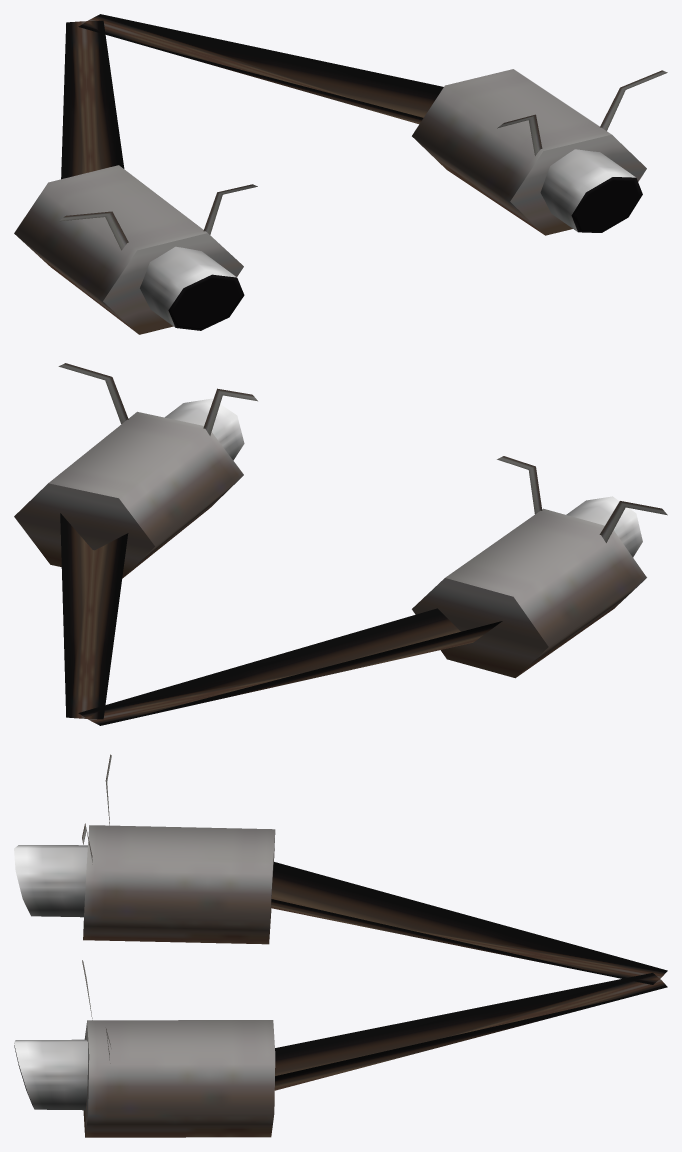
File: exh_c_u.glb
3 views of the same model, one above another, from view 1: azimuth 30°, elevation 25°; view 2: azimuth 150°, elevation 25°; view 3: azimuth 270°, elevation 25° (orthographic).
Parts seen in each view (by area): view 1: exh_c_u; view 2: exh_c_u; view 3: exh_c_u.
Part boxes in pixels (x1,y1,x2,y2): exh_c_u: (14, 14, 667, 334); exh_c_u: (14, 363, 667, 725); exh_c_u: (14, 754, 667, 1137).
Bounding box in the file's own units: 1.41 × 0.2797 × 1.32.
2 materials, 2 textured.
